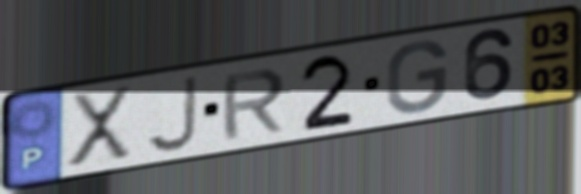2: (298, 53, 356, 135)
6: (461, 26, 516, 105)
G: (383, 38, 451, 117)
J: (142, 73, 200, 156)
R: (219, 65, 289, 143)
X: (65, 83, 135, 170)
